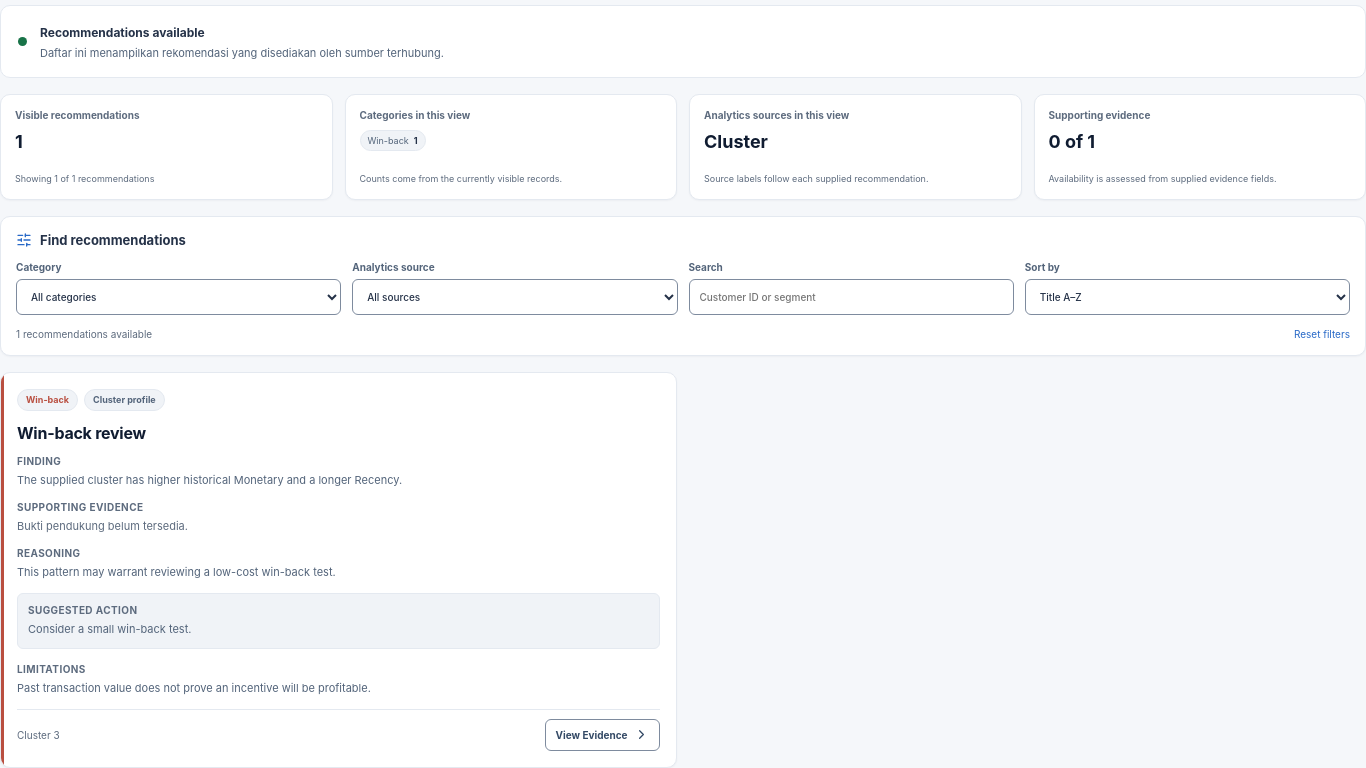
Test: Action Center page › reports missing evidence without inventing cluster evaluation links
The image size is (1366, 768).
(page scrolled)
Expected: the heading "Win-back review" is shown, [17,423,146,443]
Click the button with aria-label "View Evidence for Win-back review" at (602, 735), box [544,719,660,751]
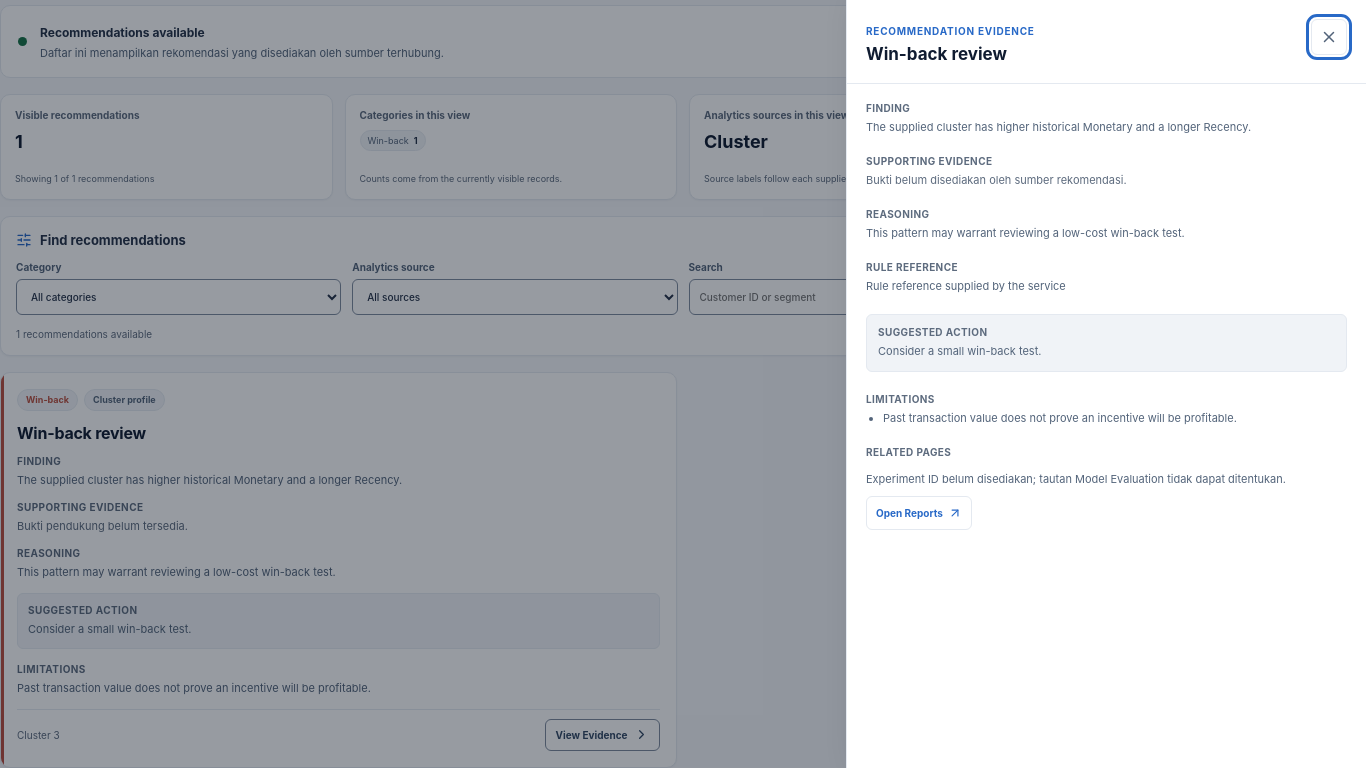
Expected: the text "Bukti belum disediakan oleh sumber rekomendasi." is shown, [866,173,1127,187]
Expected: the text "Experiment ID belum disediakan" is shown, [866,472,1286,486]
Type keys "{Shift>}{Tab}{/Shift}"
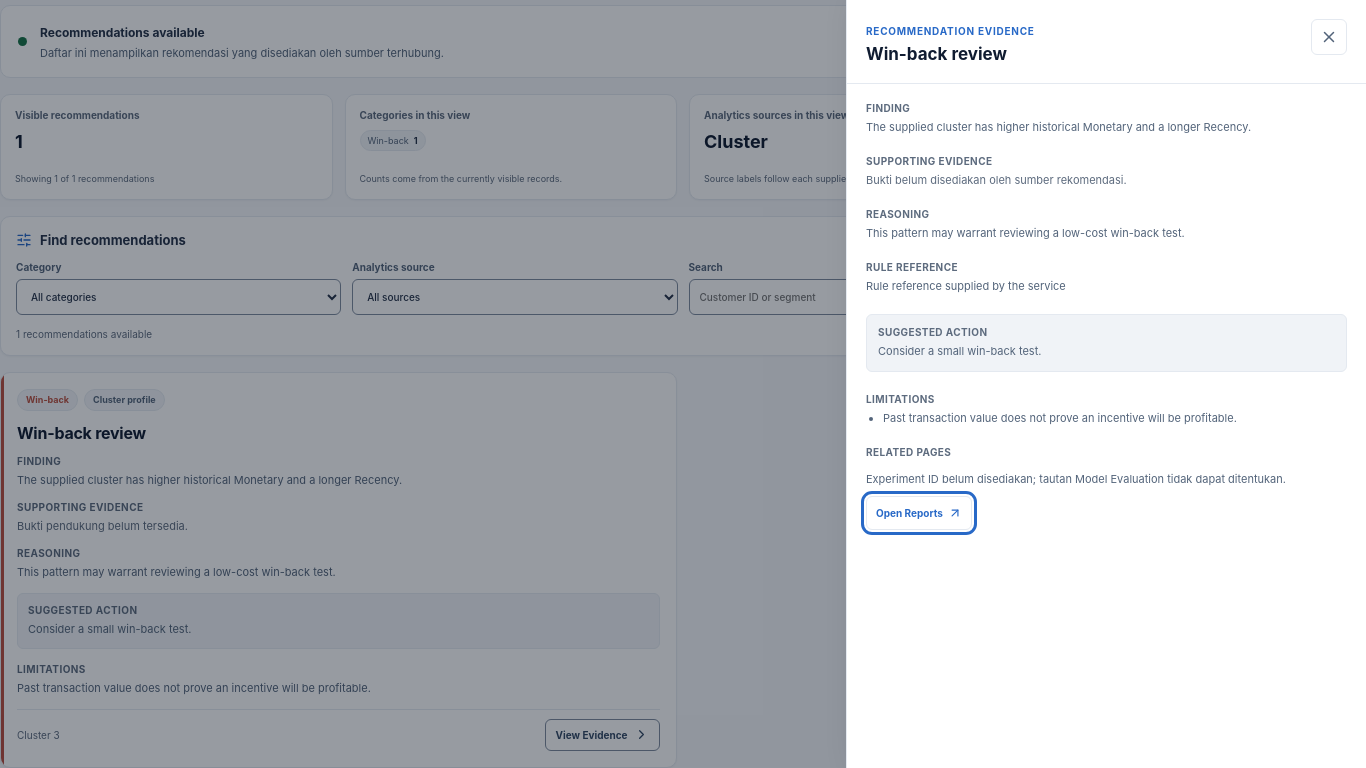
Press Escape
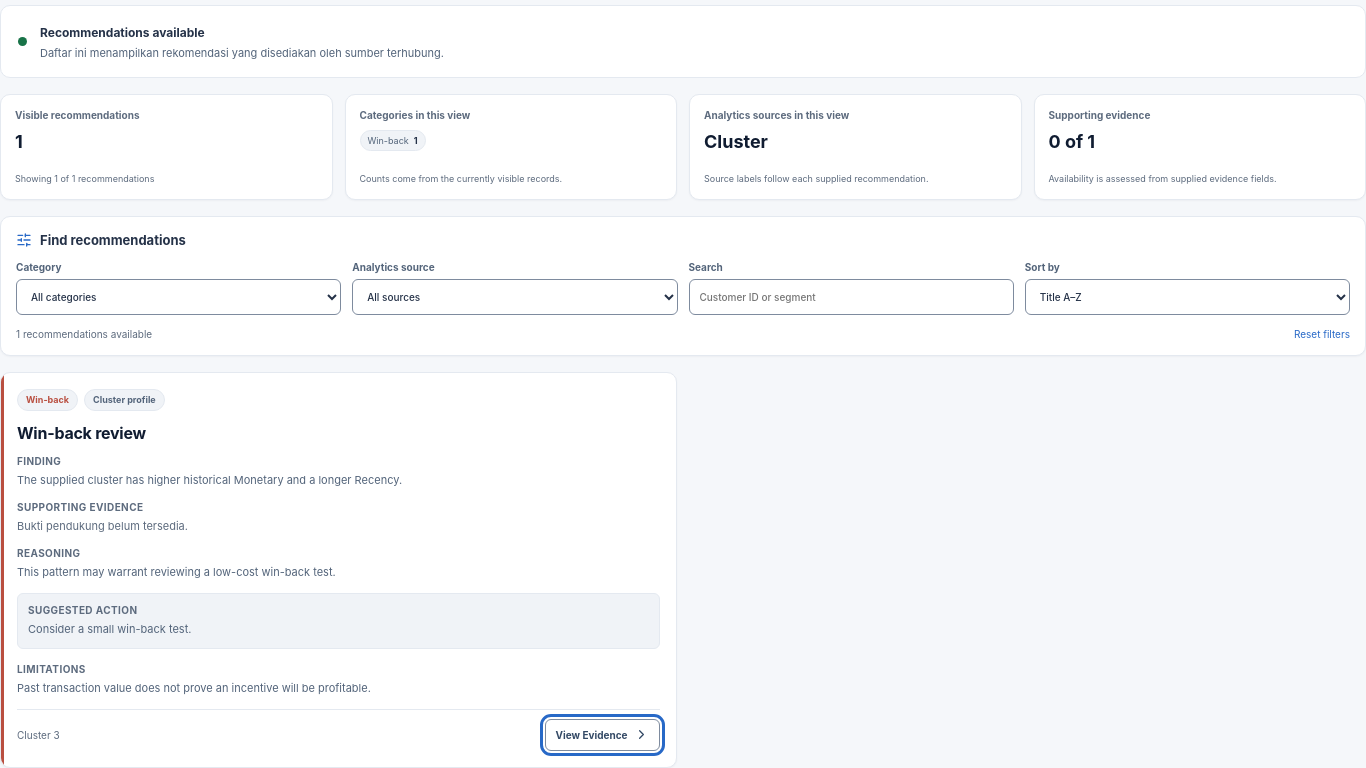
Expected: the dialog is gone
